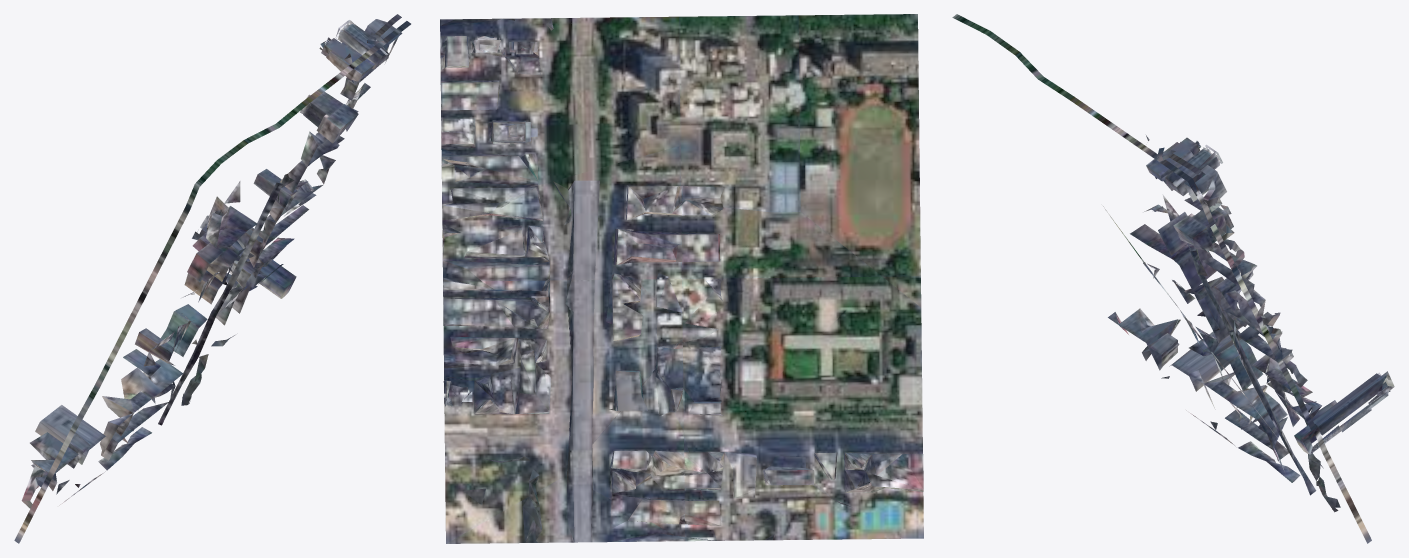
3 views of the same model, side by side, from view 1: azimuth 30°, elevation 25°; view 2: azimuth 150°, elevation 25°; view 3: azimuth 270°, elevation 25° (orthographic). The views are drawn at different scales.
Bounding box in the file's own units: 612 × 562 × 541.
2 materials, 2 textured.
